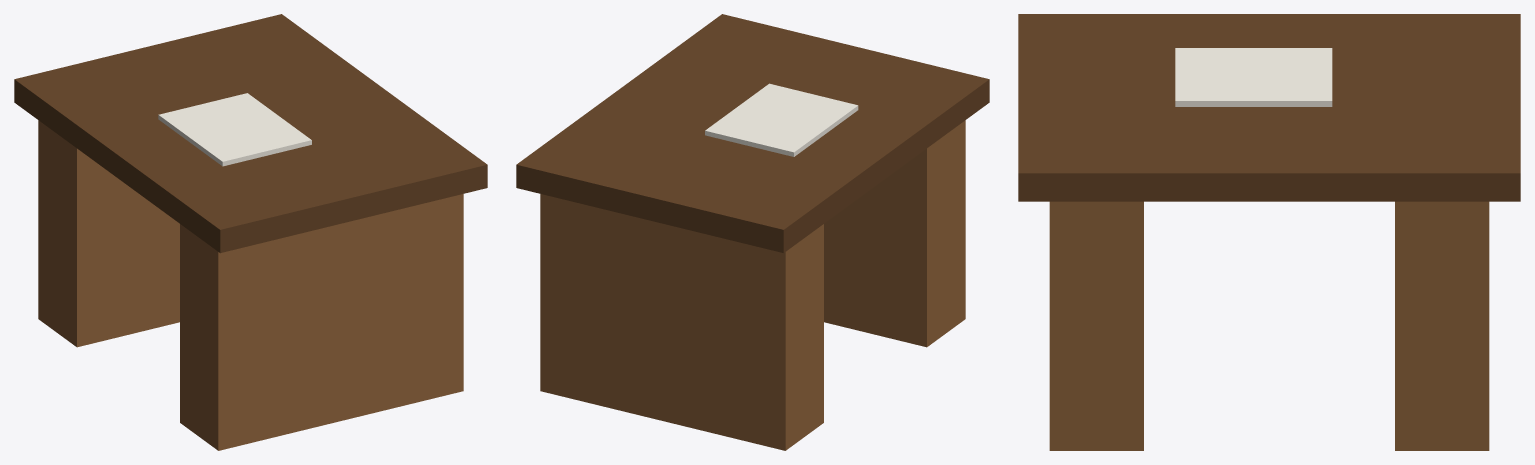
The model's file is desk.glb.
The picture shows the model from 3 angles, left to right: view 1: azimuth 30°, elevation 25°; view 2: azimuth 150°, elevation 25°; view 3: azimuth 270°, elevation 25°; orthographic projection. The views are drawn at different scales.
Parts seen in each view (by area): view 1: desk; view 2: desk; view 3: desk.
Part boxes in pixels (bbox=[...]): desk: bbox=[14, 14, 487, 450]; desk: bbox=[516, 14, 989, 450]; desk: bbox=[1018, 14, 1520, 450].
Bounding box in the file's own units: 0.6 × 0.51 × 0.8.
1 material, 1 textured.
